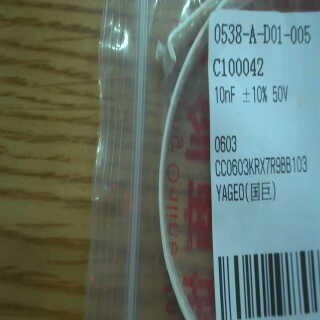10nF: (213, 83, 239, 109)
